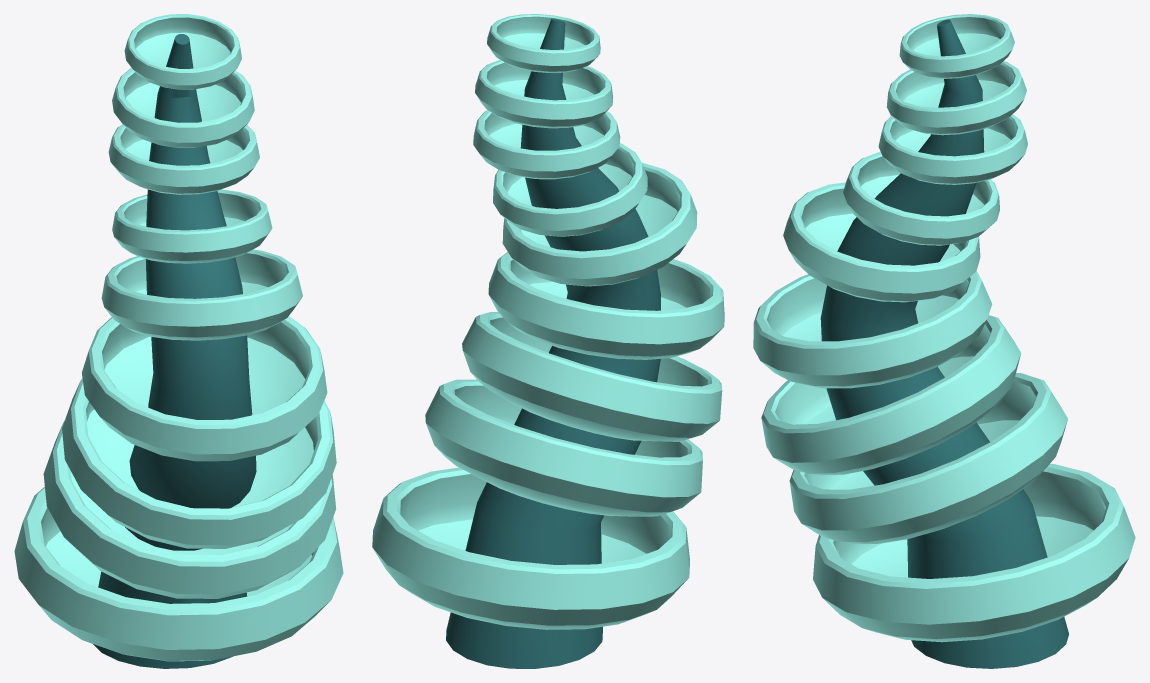
Rendered from Tree03.fbx.
The picture shows the model from 3 angles, left to right: view 1: azimuth 30°, elevation 25°; view 2: azimuth 150°, elevation 25°; view 3: azimuth 270°, elevation 25°; orthographic projection. The views are drawn at different scales.
Visible parts, largest first — view 1: pCylinder41; view 2: pCylinder41; view 3: pCylinder41.
Boxes of the visible parts, x1,y1,x2,y2 form: pCylinder41: [14, 14, 343, 668]; pCylinder41: [372, 14, 724, 668]; pCylinder41: [753, 14, 1135, 668].
Size of the model in its own units: 96 by 198 by 113.
